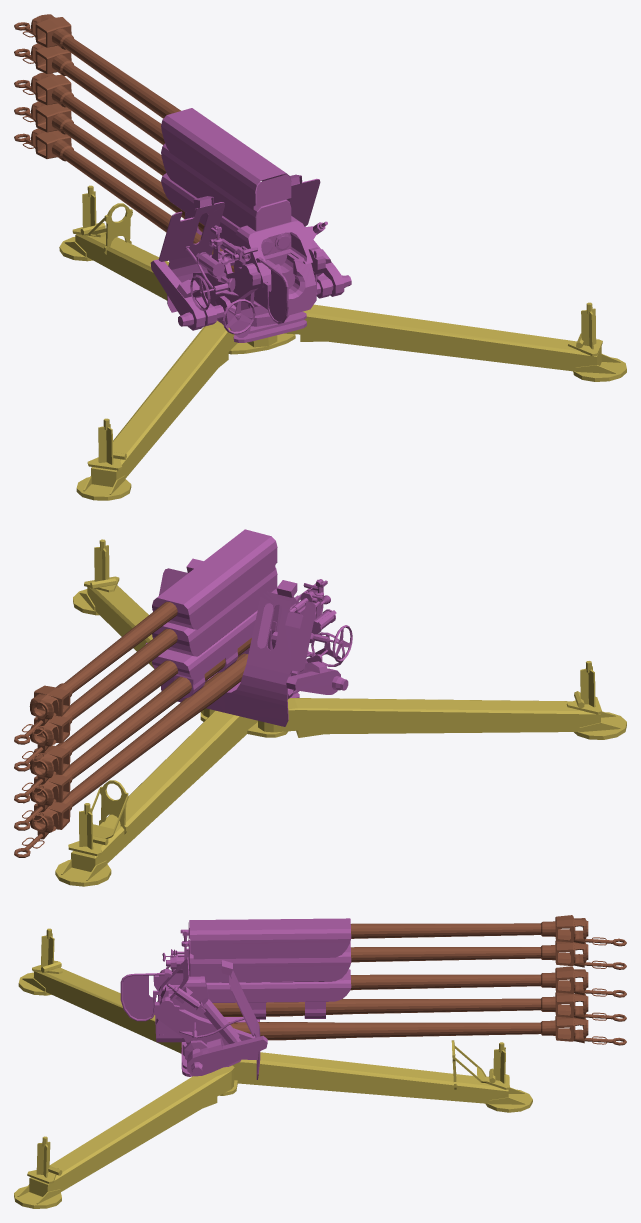
File: gausbitsa-d-30_Update5.fbx
3 renders of one model, top to bottom at view 1: azimuth 30°, elevation 25°; view 2: azimuth 150°, elevation 25°; view 3: azimuth 270°, elevation 25°, orthographic. The views are drawn at different scales.
Visible parts, largest first — view 1: Attack, Base; view 2: Attack, Base; view 3: Attack, Base.
Part boxes in pixels (x1,y1,x2,y2): Attack: (14, 14, 351, 342); Base: (59, 185, 626, 500); Attack: (14, 529, 352, 857); Base: (55, 539, 626, 886); Attack: (120, 915, 626, 1079); Base: (14, 928, 532, 1208).
Bounding box in the file's own units: 24.84 × 9.23 × 27.47.
